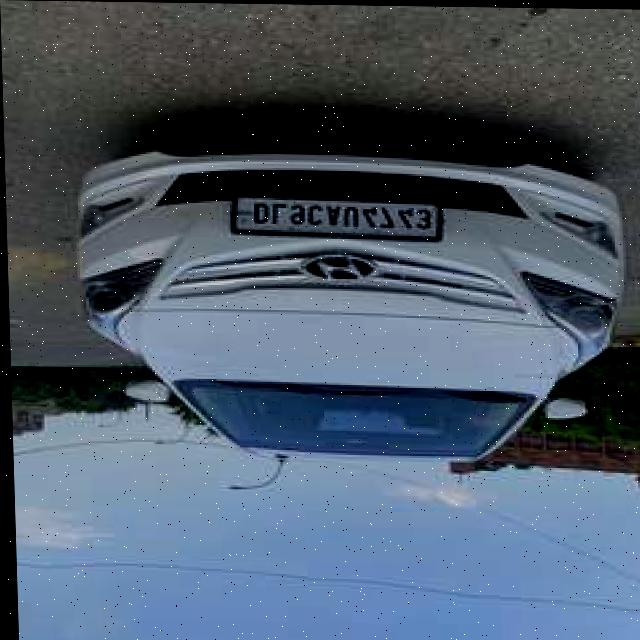plate: (228, 199, 442, 238)
